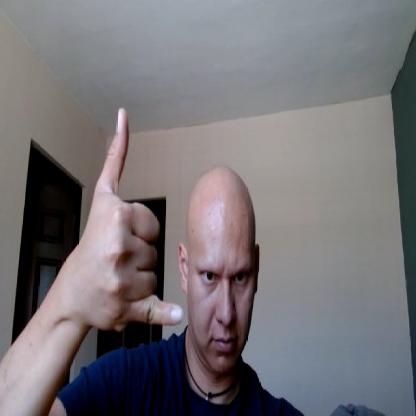Y: (84, 110, 184, 324)
